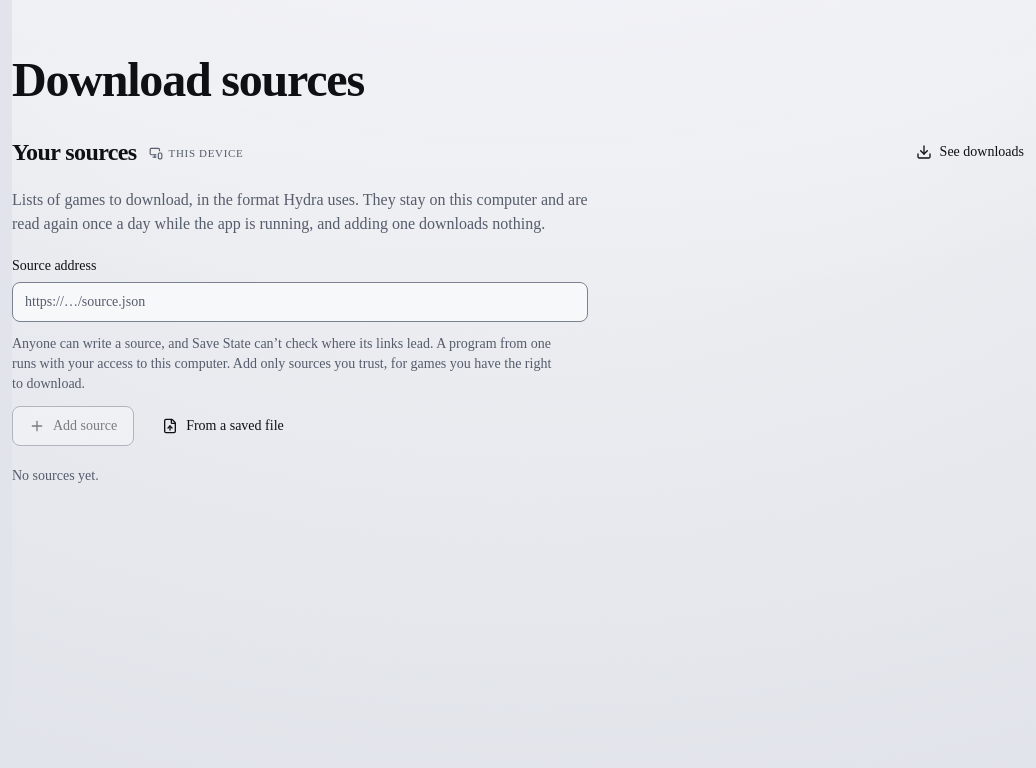
download sources › adds a source from a saved file, through Windows’ picker, with no address
Click the button "From a saved file" at x=223, y=426, box [146,406,300,446]
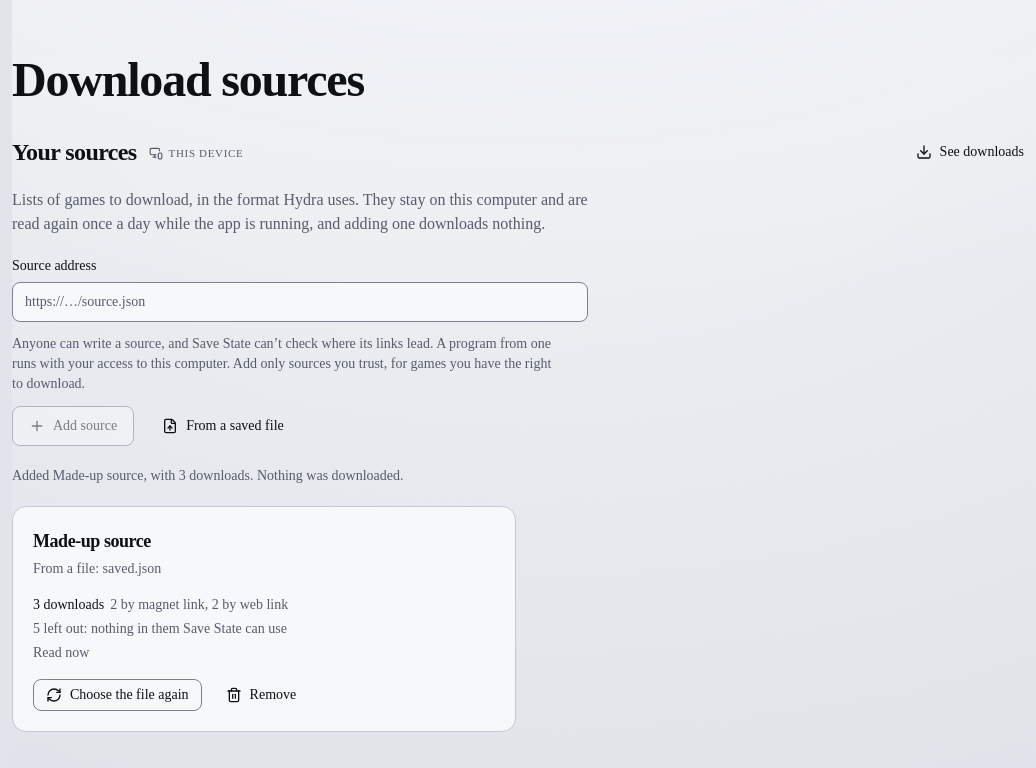
Expected: the text "From a file: saved.json" is shown, [33,561,161,576]
